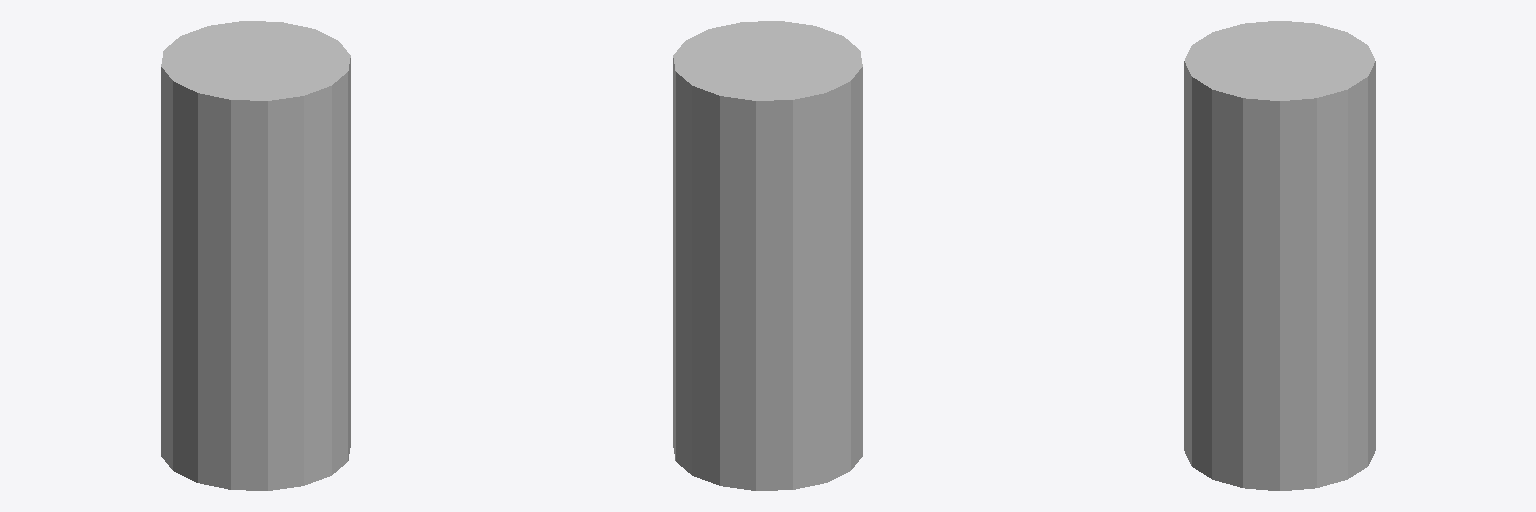
Rendered from gong001.obj.
3 views of the same model, side by side, from view 1: azimuth 30°, elevation 25°; view 2: azimuth 150°, elevation 25°; view 3: azimuth 270°, elevation 25° (orthographic).
Visible parts, largest first — view 1: Cylinder001; view 2: Cylinder001; view 3: Cylinder001.
Part boxes in pixels (x1,y1,x2,y2): Cylinder001: (161,21,350,490); Cylinder001: (673,21,862,490); Cylinder001: (1184,21,1375,490).
Size of the model in its own units: 16 by 36 by 16.